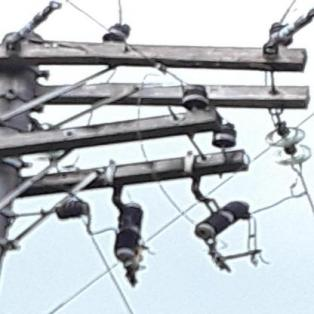Poste: (0, 31, 65, 314)
